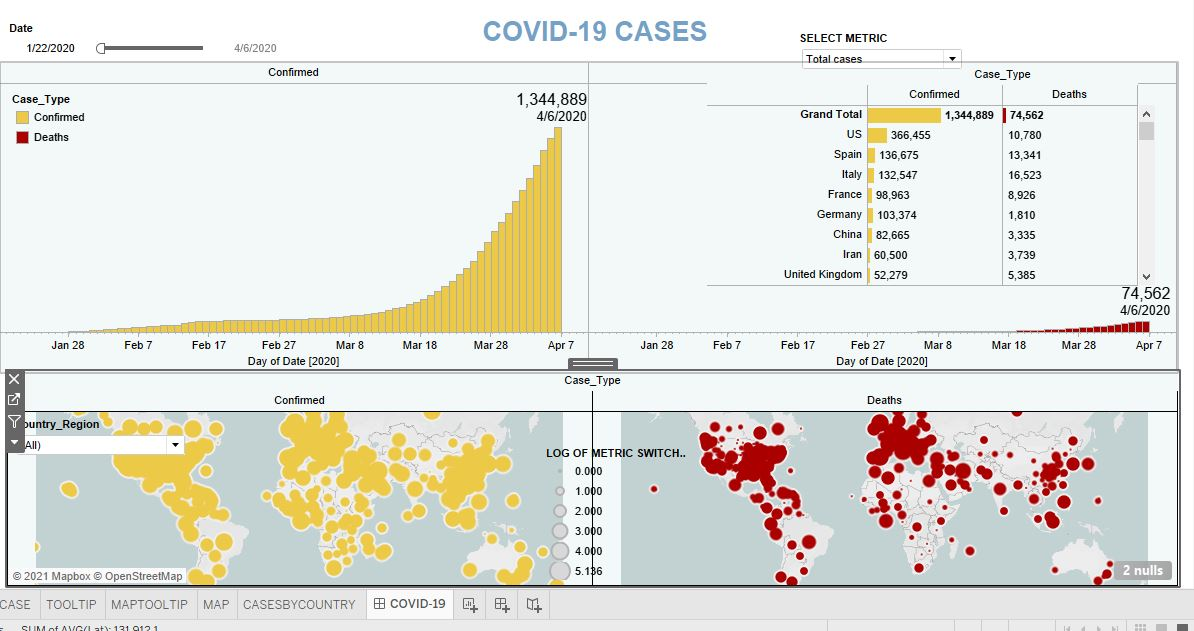

What the dashboard file says about the page in this screenshot:
{"tool":"tableau","page":{"name":"COVID-19","canvas":[1000,1000],"units":"permille","ordinal":0},"visuals":[{"type":"worksheet","box":[0,0,1000,1000]},{"type":"worksheet","box":[376.6,8.4,245.9,106.4]},{"type":"worksheet","param":"horz","box":[6.9,13.5,986.1,973]},{"type":"worksheet","box":[6.9,13.5,986.1,973]},{"type":"worksheet","title":"DAILYCASE","mark":"Bar","rows":["Calculation_448952592835018752"],"cols":["Case_Type","Date"],"param":"[federated.0tf0gkh10ufyao1fn6eiw13riy0j].[none:Date:qk]","box":[9.5,43.9,242.4,103]},{"type":"worksheet","param":"[Parameters].[Parameter 1]","box":[670.1,60.8,138.5,74.3]},{"type":"worksheet","title":"DAILYCASE","mark":"Bar","rows":["Calculation_448952592835018752"],"cols":["Case_Type","Date"],"box":[0.9,113.2,986.1,522]},{"type":"worksheet","title":"CASESBYCOUNTRY","mark":"Automatic","rows":["Country_Region"],"cols":["Case_Type","Calculation_448952592835018752"],"box":[593.1,116.5,375.8,373.3]},{"type":"worksheet","title":"DAILYCASE","mark":"Bar","rows":["Calculation_448952592835018752"],"cols":["Case_Type","Date"],"param":"[federated.0tf0gkh10ufyao1fn6eiw13riy0j].[none:Case_Type:nk]","box":[12.1,163.8,121.2,98]},{"type":"worksheet","title":"MAP","mark":"Automatic","rows":["Lat"],"cols":["Case_Type","Long"],"box":[7.8,633.5,980.1,363.2]},{"type":"worksheet","title":"DAILYCASE","mark":"Bar","rows":["Calculation_448952592835018752"],"cols":["Case_Type","Date"],"param":"[federated.0tf0gkh10ufyao1fn6eiw13riy0j].[none:Country_Region:nk]","box":[13,712.8,145.5,87.8]},{"type":"worksheet","title":"MAP","mark":"Automatic","rows":["Lat"],"cols":["Case_Type","Long"],"param":"[federated.0tf0gkh10ufyao1fn6eiw13riy0j].[usr:Calculation_448952592842366978:qk]","box":[458.9,761.8,121.2,233.1]}]}

Visuals, with their boxes on the dashboard's canvas, which has no fixed pixel size, in thousandths of its width and height (x1, y1, x2, y2). These are canvas units, not pixel positions in the 1194x631 screenshot, which may show the page scaled, cropped or inside an application window:
worksheet: (0,0,1000,1000)
worksheet: (377,8,622,115)
worksheet: (7,14,993,986)
worksheet: (7,14,993,986)
"DAILYCASE" worksheet (Bar marks): (10,44,252,147)
worksheet: (670,61,809,135)
"DAILYCASE" worksheet (Bar marks): (1,113,987,635)
"CASESBYCOUNTRY" worksheet: (593,116,969,490)
"DAILYCASE" worksheet (Bar marks): (12,164,133,262)
"MAP" worksheet: (8,634,988,997)
"DAILYCASE" worksheet (Bar marks): (13,713,158,801)
"MAP" worksheet: (459,762,580,995)
